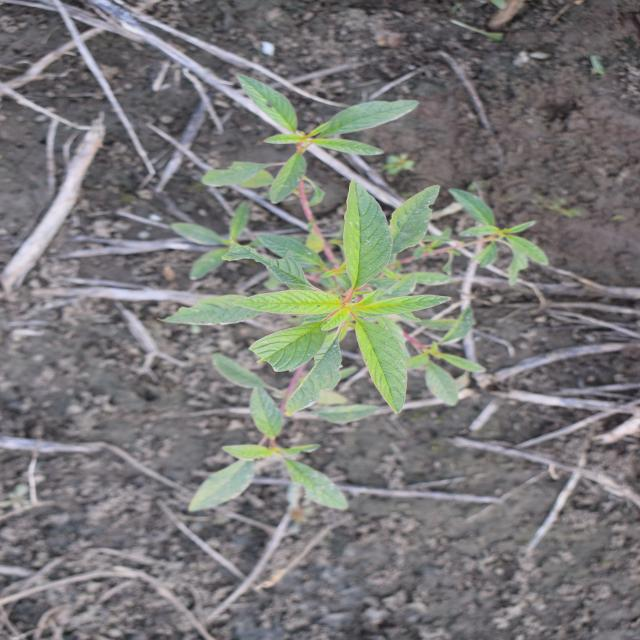Waterhemp: (155, 69, 552, 514)
